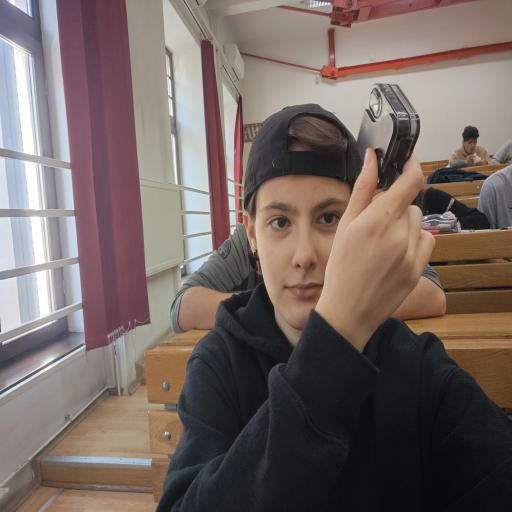CASTI: (353, 84, 420, 192)
